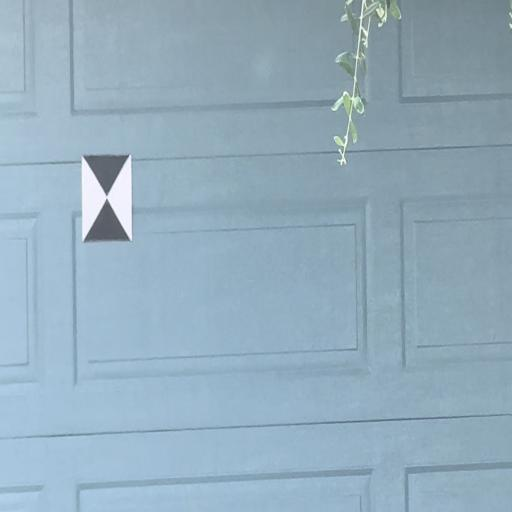target: (81, 155, 132, 241)
